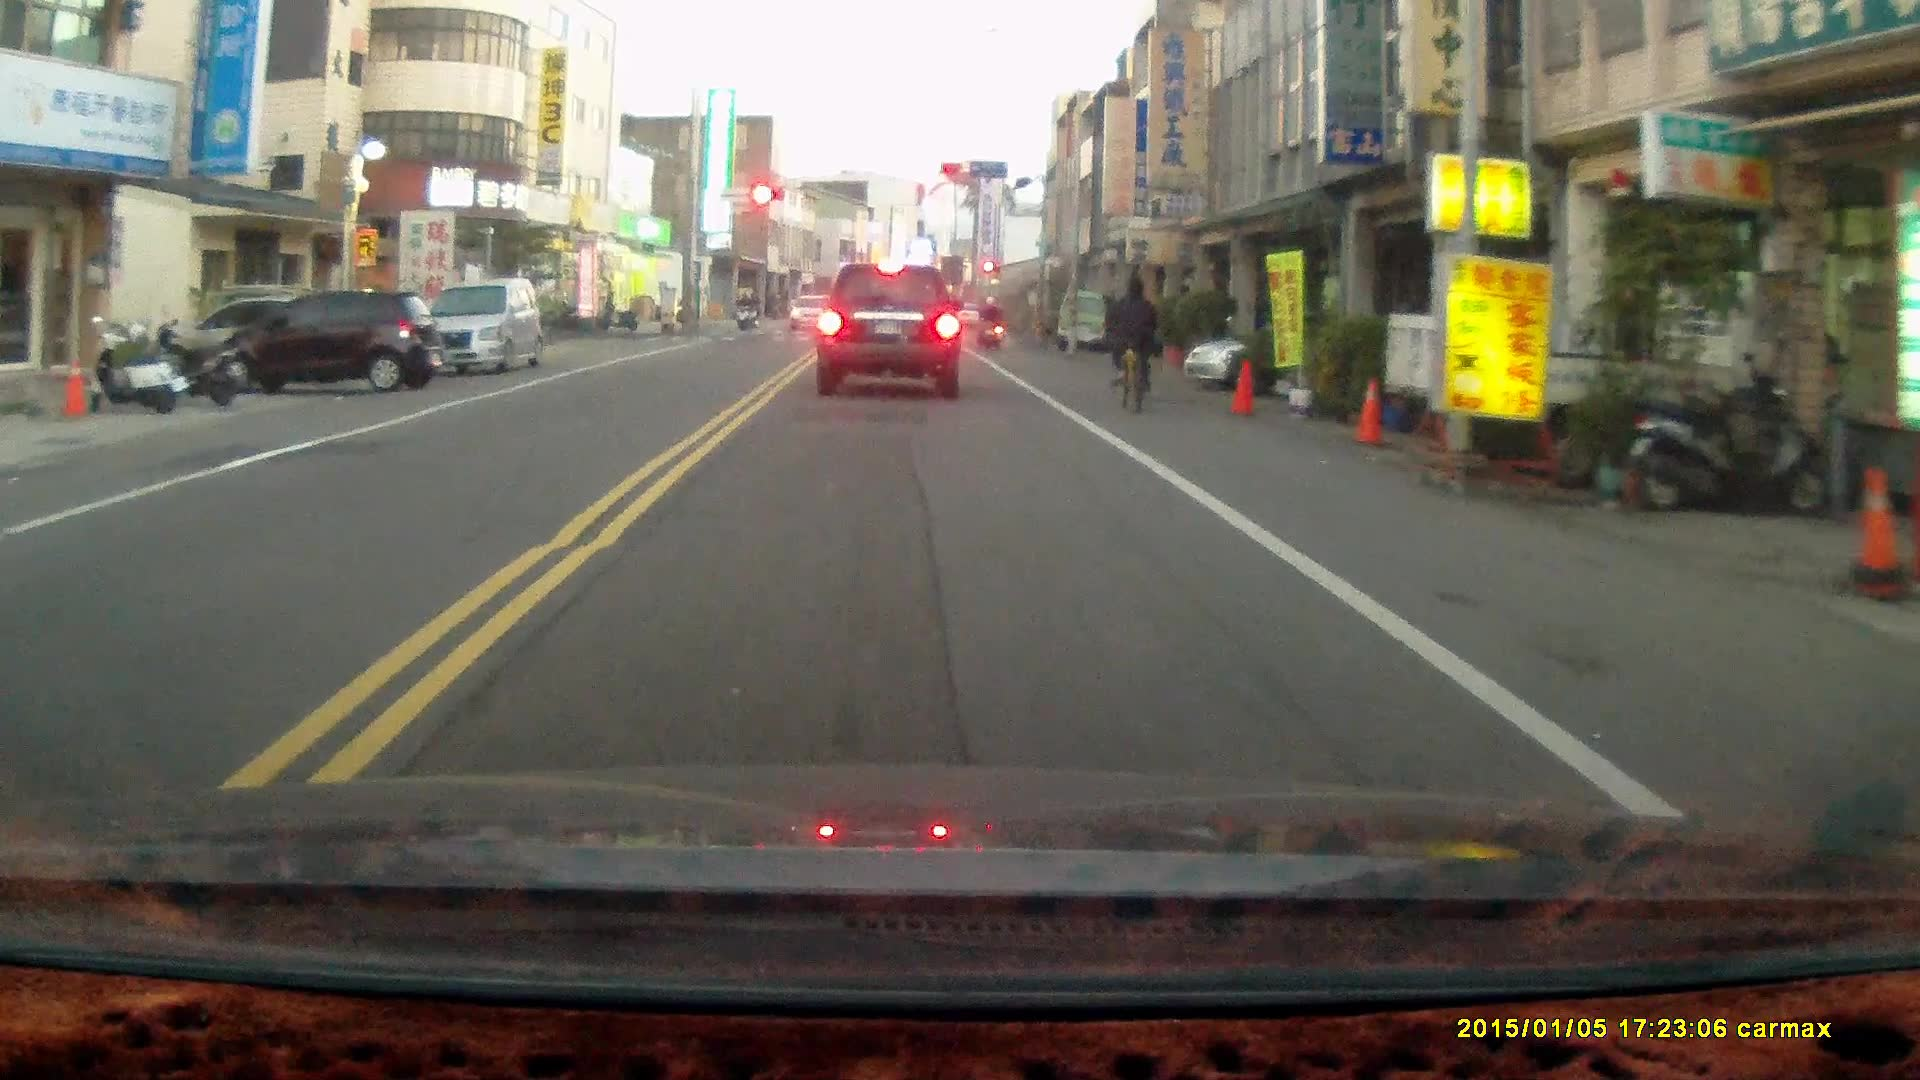rider: (1104, 270, 1160, 413), (973, 292, 1002, 351), (734, 287, 757, 330)
vehicle: (221, 290, 441, 395), (815, 262, 966, 402), (1182, 317, 1434, 399), (402, 272, 542, 379)
